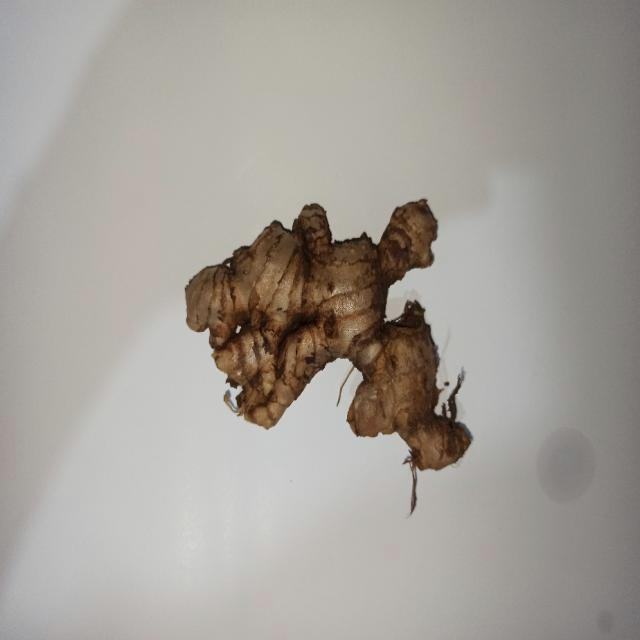ginger: (187, 201, 474, 472)
